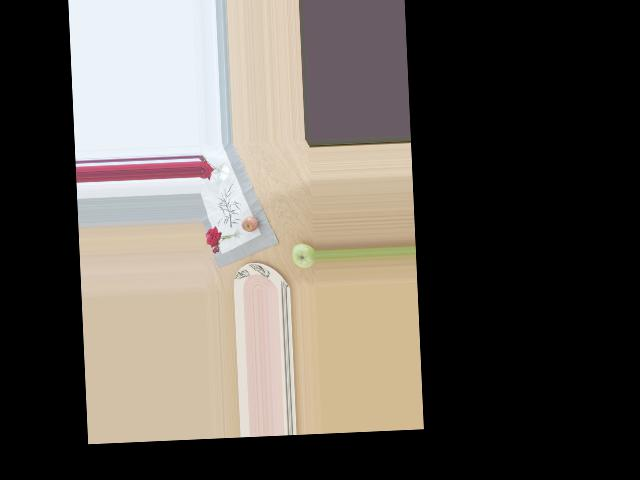apple: (290, 242, 316, 269)
